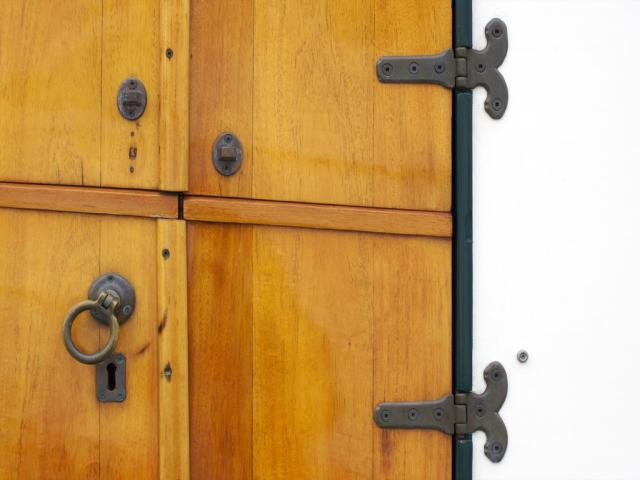Door-handle: (61, 272, 135, 364)
